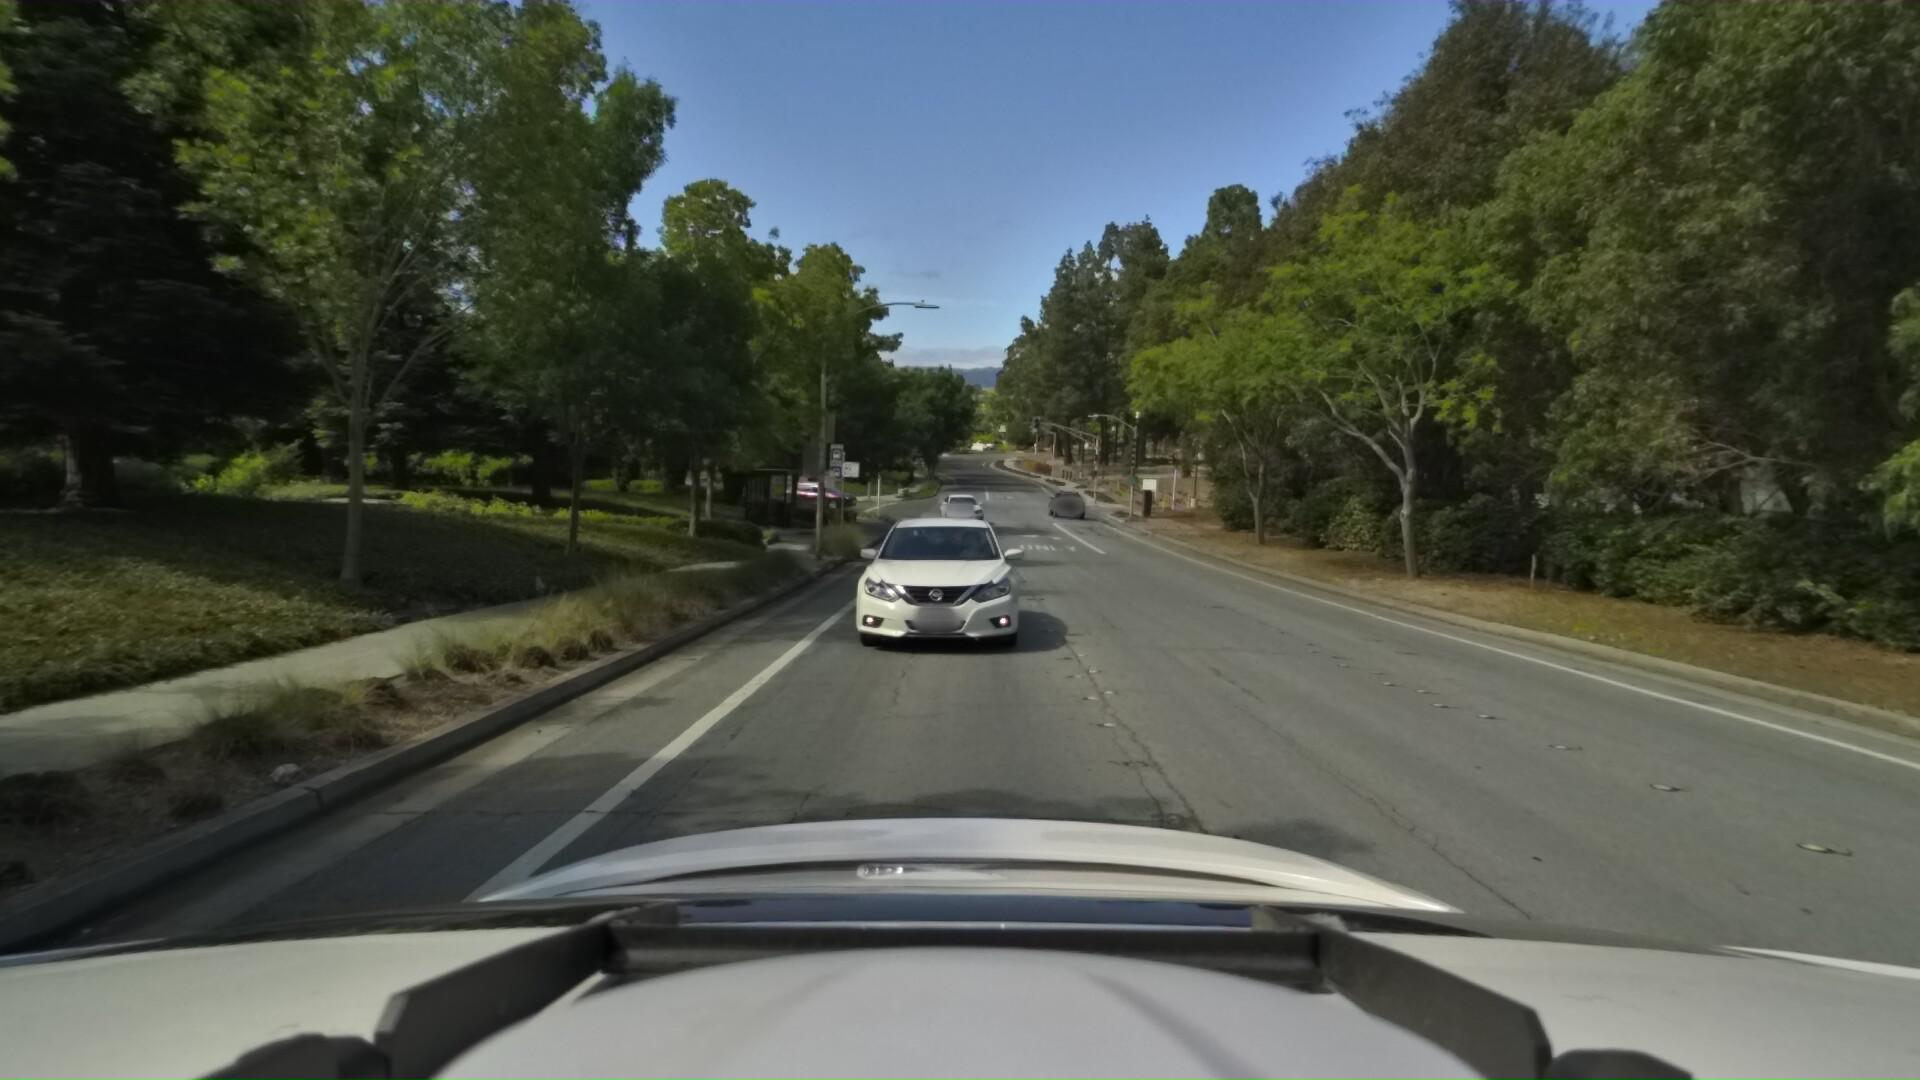car: (837, 484, 1025, 666), (775, 477, 865, 512), (939, 485, 985, 525), (1044, 481, 1089, 518)
